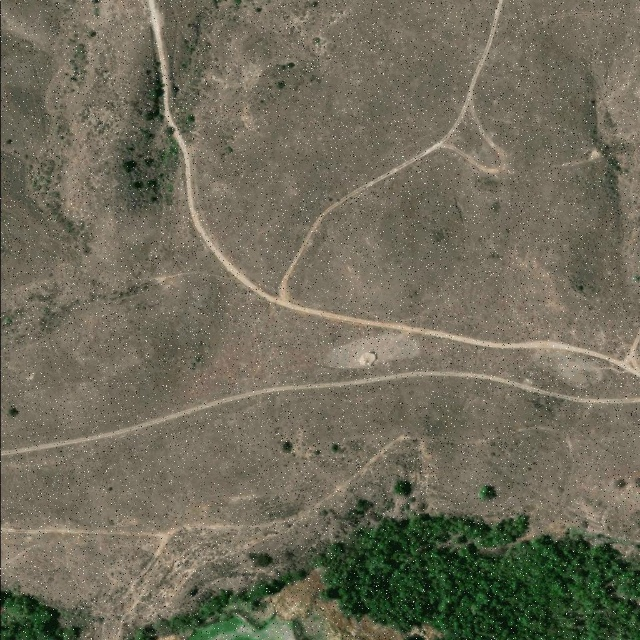vegetation: (120, 479, 640, 640), (0, 586, 77, 640)
